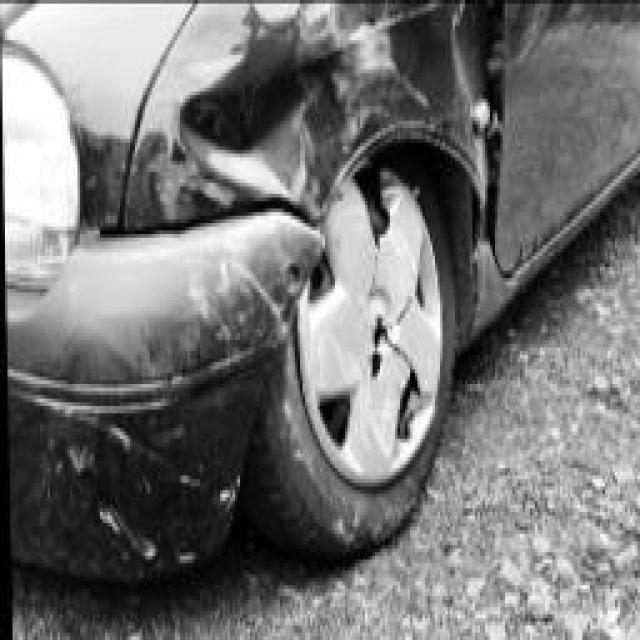Bumper: (2, 219, 313, 549)
Fender: (158, 4, 451, 205)
